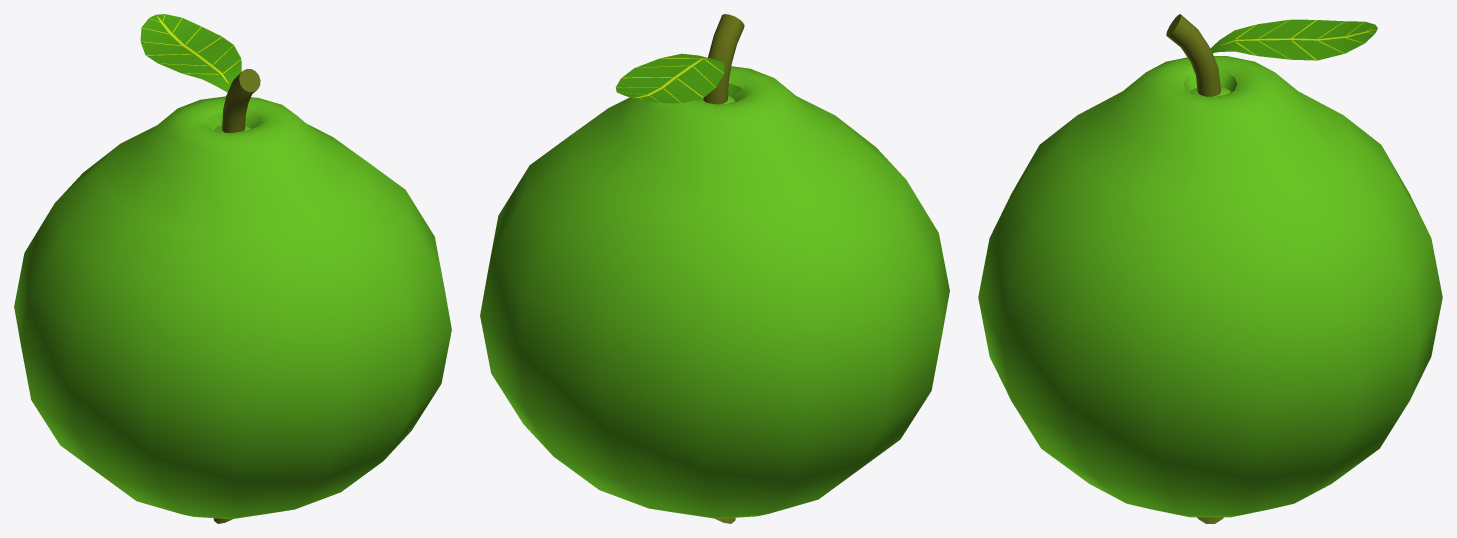
Rendered from goiaba jogo.fbx.
The picture shows the model from 3 angles, left to right: view 1: azimuth 30°, elevation 25°; view 2: azimuth 150°, elevation 25°; view 3: azimuth 270°, elevation 25°; orthographic projection. The views are drawn at different scales.
Visible parts, largest first — view 1: Sphere; view 2: Sphere; view 3: Sphere.
Boxes of the visible parts, x1,y1,x2,y2 form: Sphere: (14,14,451,523); Sphere: (480,14,949,523); Sphere: (978,14,1442,523).
Size of the model in its own units: 1.88 by 2.19 by 1.85.
